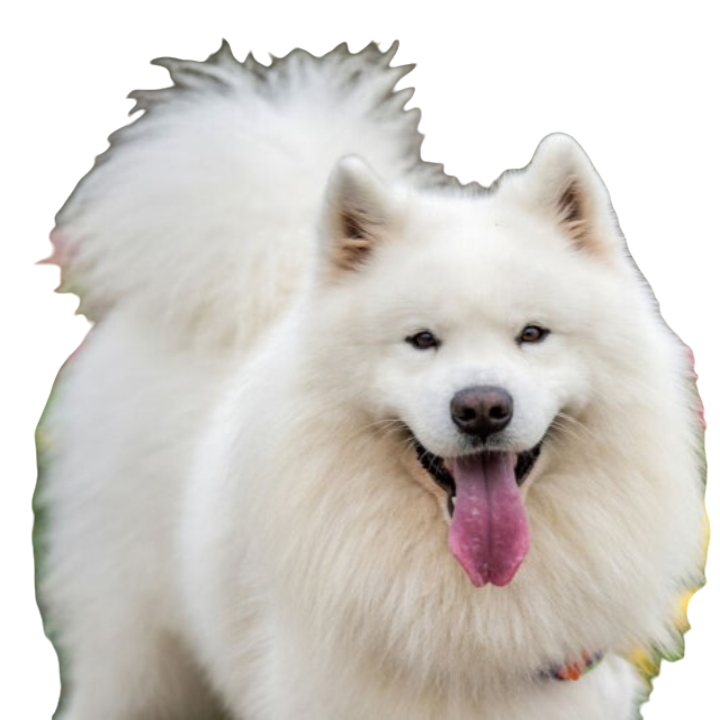Dog: (30, 36, 709, 716)
